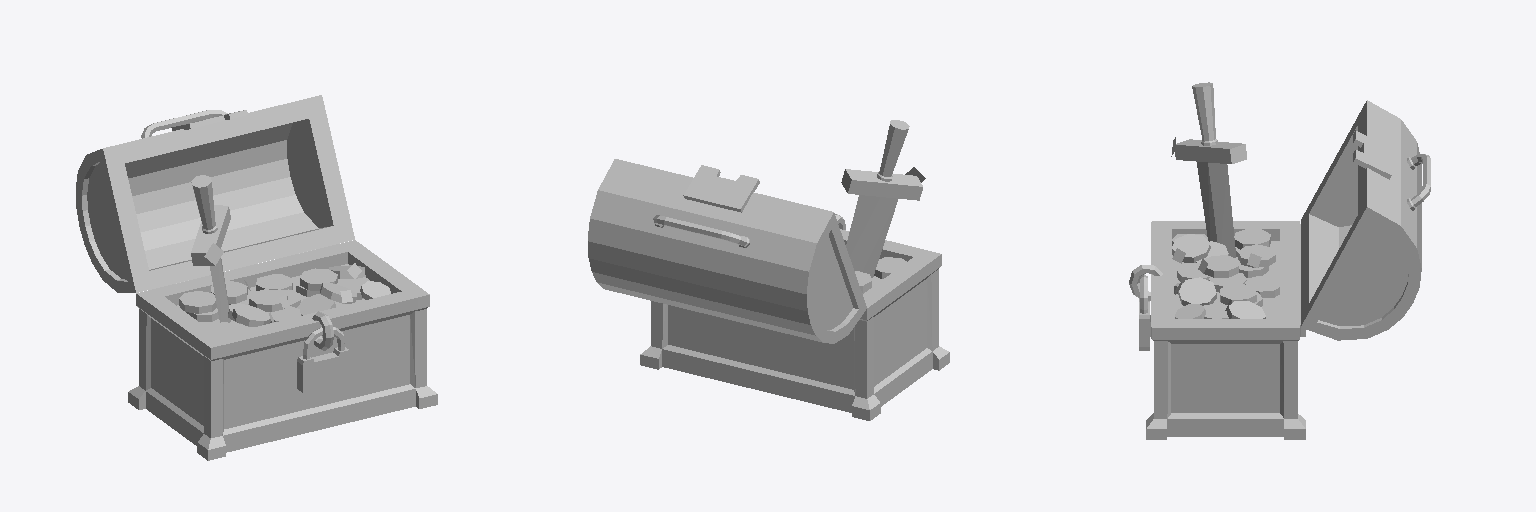
File: Chest.obj
3 views of the same model, side by side, from view 1: azimuth 30°, elevation 25°; view 2: azimuth 150°, elevation 25°; view 3: azimuth 270°, elevation 25° (orthographic).
Visible parts, largest first — view 1: Chest; view 2: Chest; view 3: Chest.
Boxes of the visible parts, x1=… form: Chest: x1=76, y1=95, x2=437, y2=460; Chest: x1=588, y1=120, x2=949, y2=420; Chest: x1=1129, y1=82, x2=1430, y2=439.
Bounding box in the file's own units: 0.47 × 0.5004 × 0.5361.